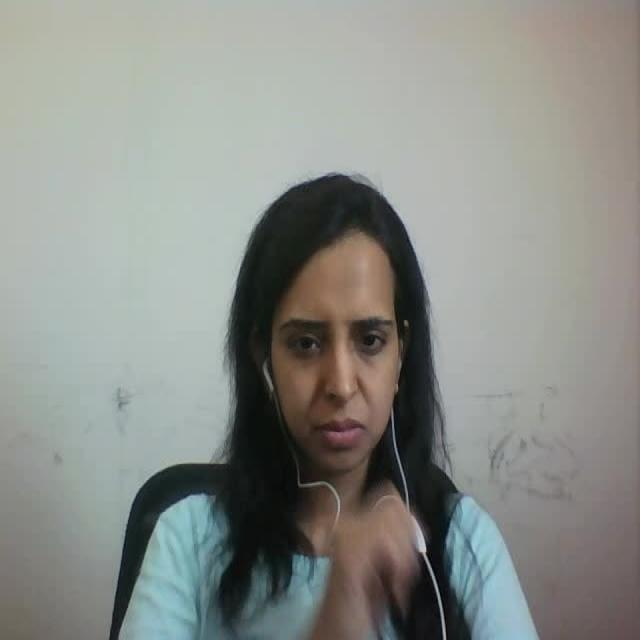Bored: (220, 134, 468, 501)
